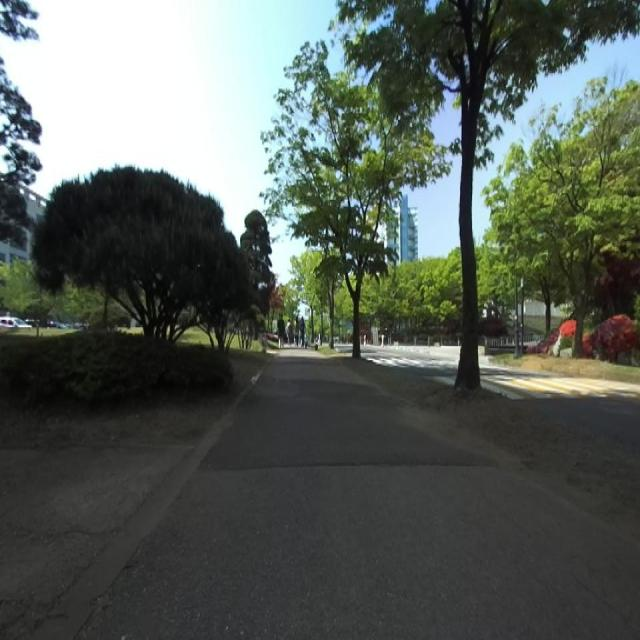sidewalk: (74, 351, 640, 640), (32, 382, 250, 640), (0, 447, 193, 639)
